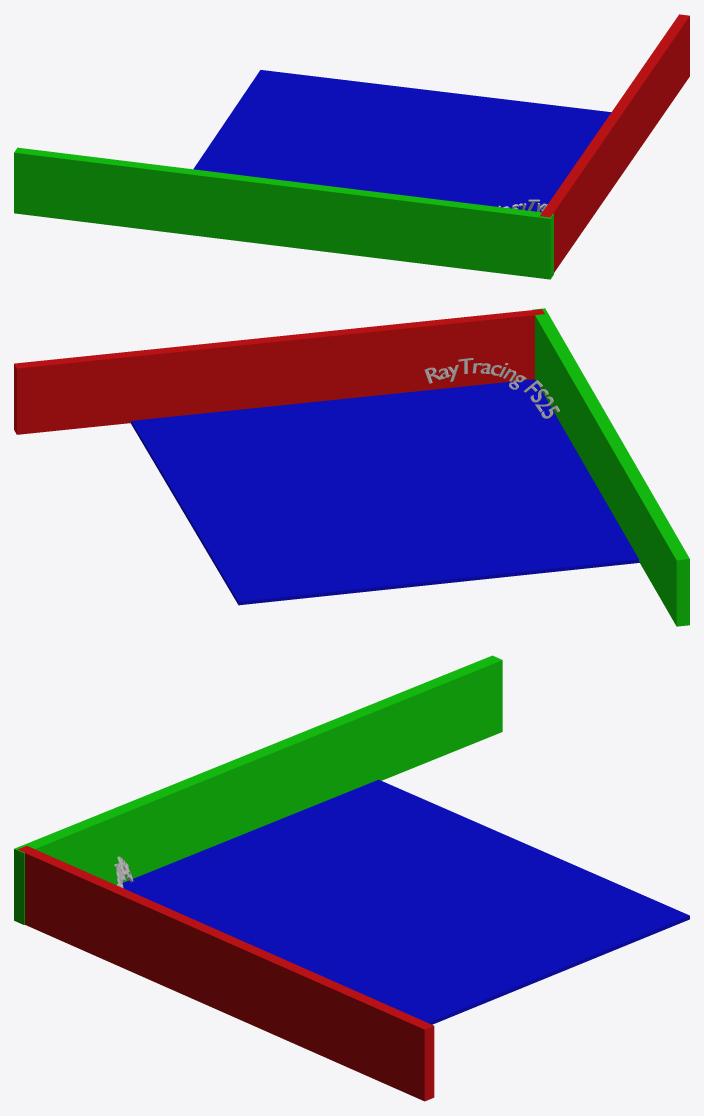
Rendered from Semesterbild.obj.
3 views of the same model, one above another, from view 1: azimuth 30°, elevation 25°; view 2: azimuth 150°, elevation 25°; view 3: azimuth 270°, elevation 25° (orthographic). The views are drawn at different scales.
Visible parts, largest first — view 1: Boden, Wand2, Wand1; view 2: Boden, Wand1, Wand2, Text; view 3: Boden, Wand2, Wand1.
Part boxes in pixels (x1=…): Boden: x1=193, y1=70, x2=611, y2=212; Wand2: x1=14, y1=147, x2=553, y2=279; Wand1: x1=540, y1=14, x2=689, y2=272; Boden: x1=130, y1=379, x2=639, y2=605; Wand1: x1=14, y1=309, x2=544, y2=434; Wand2: x1=532, y1=308, x2=689, y2=626; Text: x1=424, y1=358, x2=559, y2=418; Boden: x1=122, y1=779, x2=689, y2=1024; Wand2: x1=14, y1=655, x2=502, y2=924; Wand1: x1=18, y1=846, x2=434, y2=1101.
Size of the model in its own units: 9277 by 847 by 7083.
